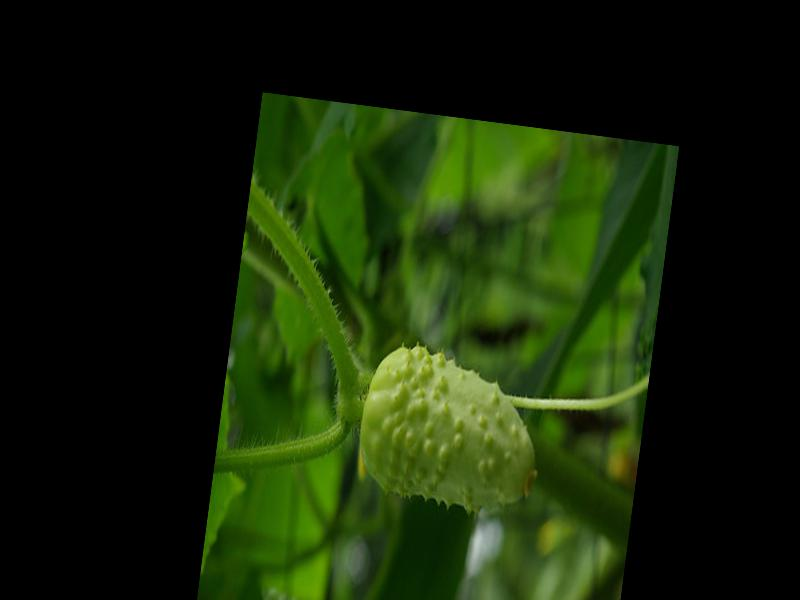Cucumber: (351, 338, 553, 516)
